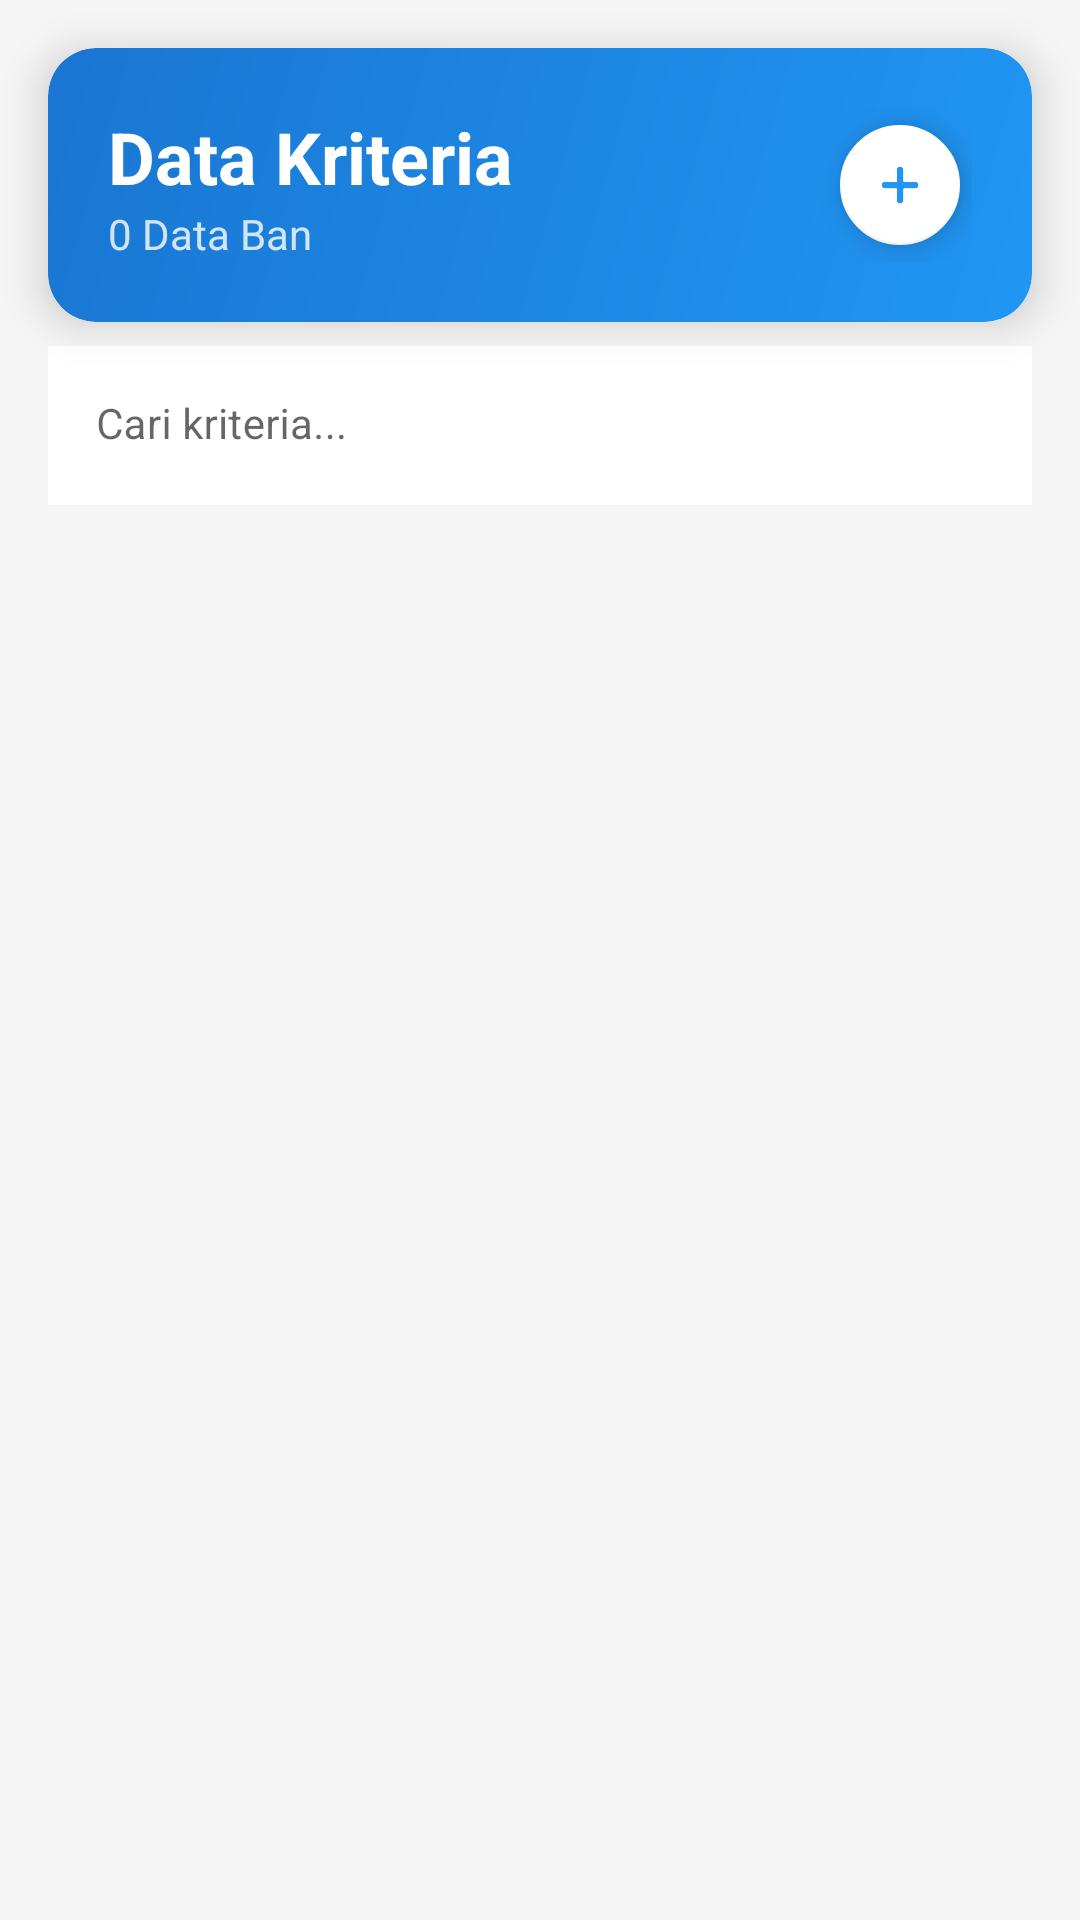

Icon click points for this 1080px×1920px phone screenshot, format (x,y):
add: (900,185)
